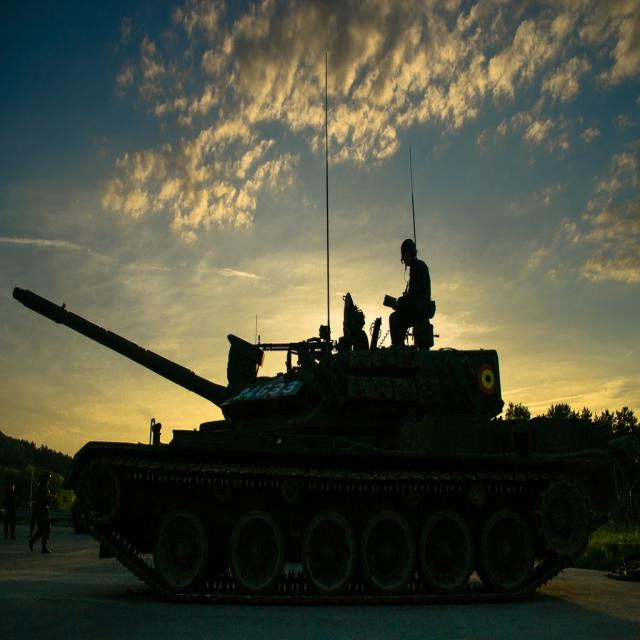tank: (12, 54, 635, 607)
